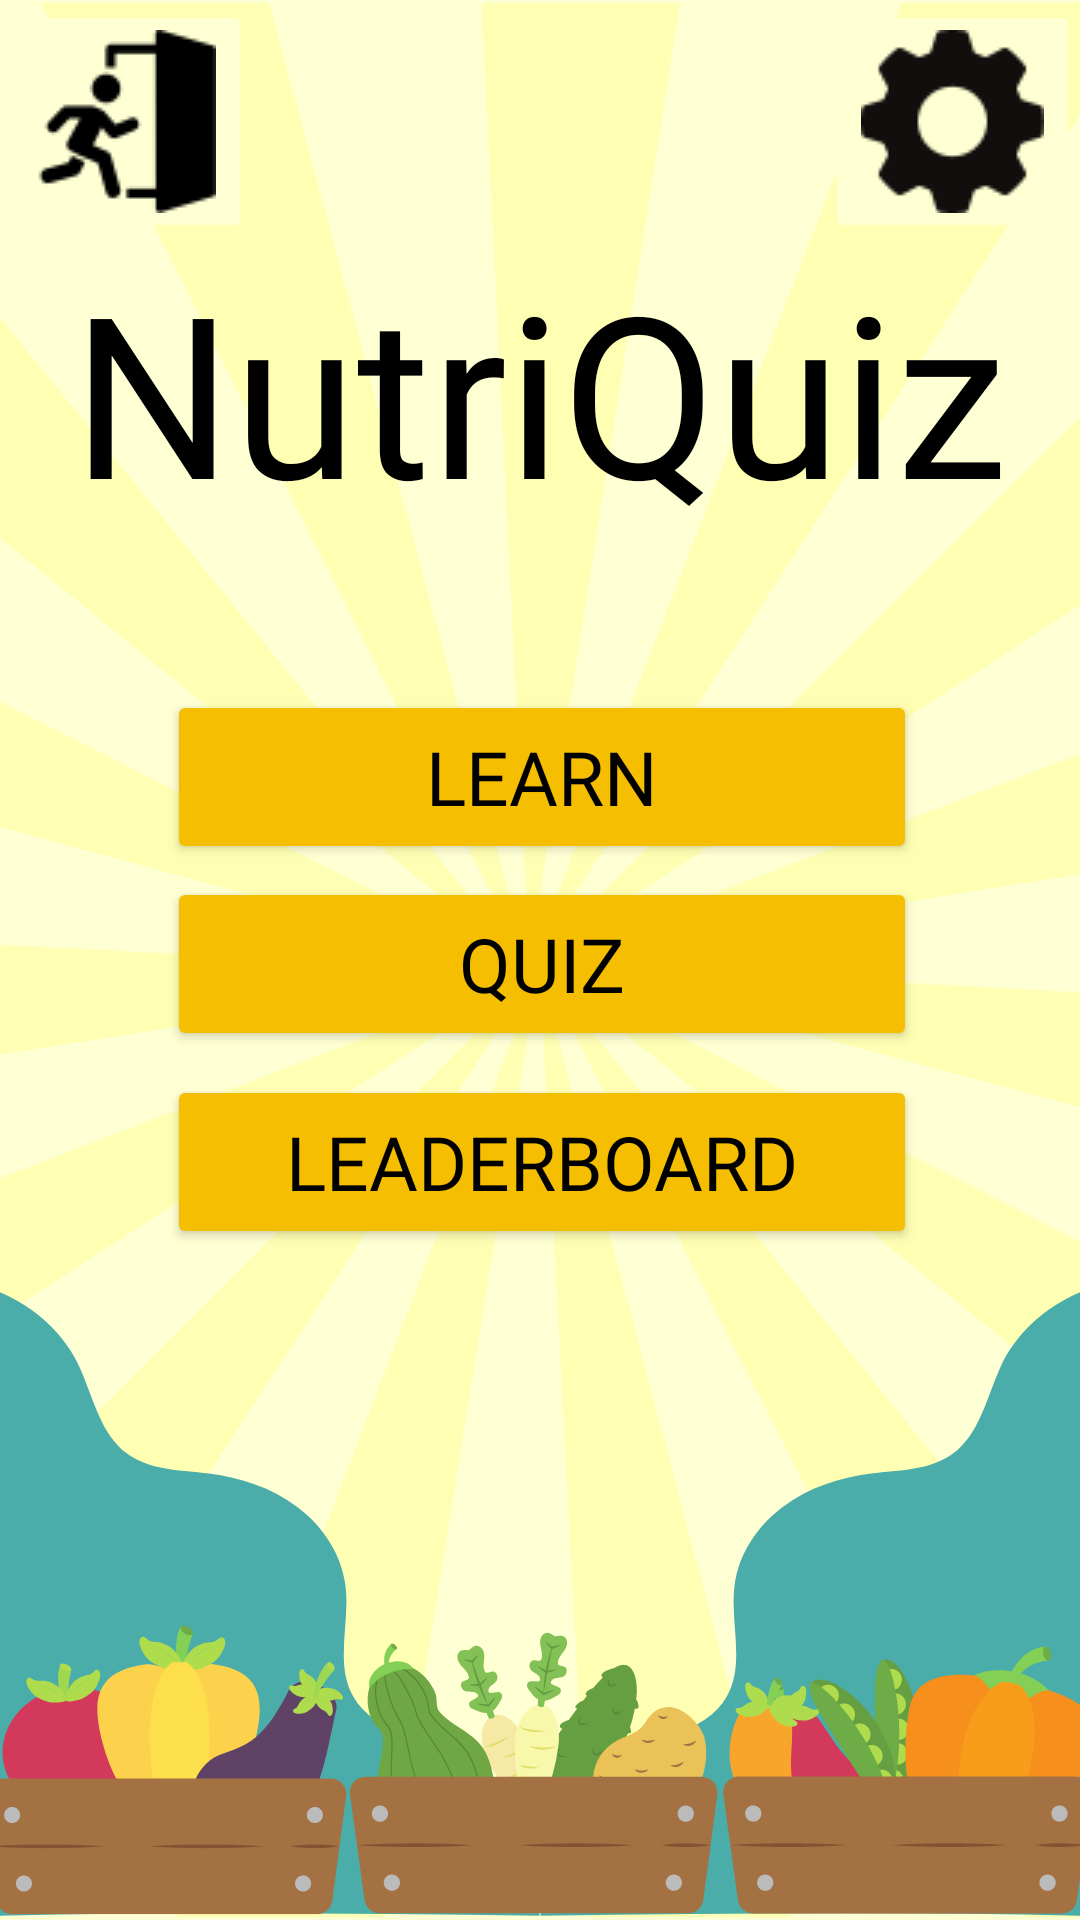

Icon click points for this 1080x1920 phone screenshot, format point (x, y):
Exit: point (126, 121)
Settings: point (952, 121)
